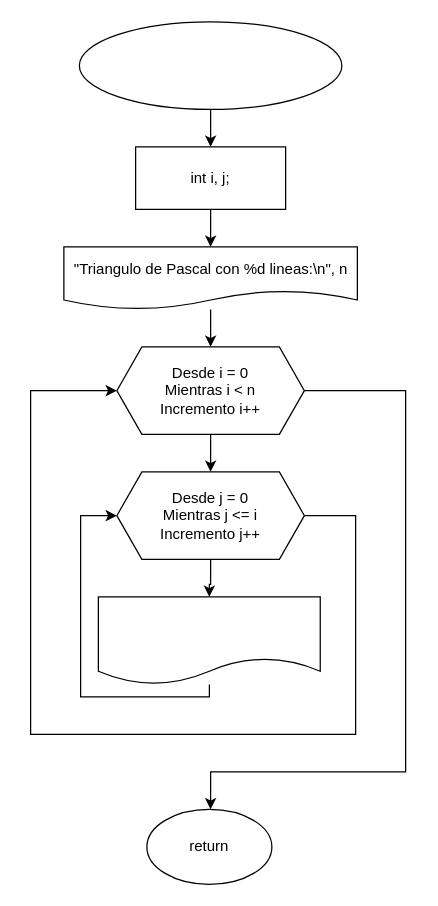
Image size: 438x906. Some labels were removed from this diagram. The box of each missing label's shape, as (x1, y1, x2, y2) in pixels:
"%d ", calcularCoeficienteBinomial(i, j): (97, 596, 320, 684)
void generarTrianguloPascal (int n): (78, 21, 342, 109)
